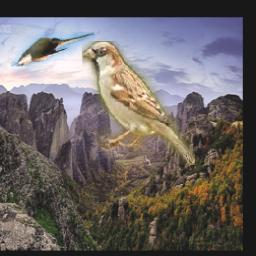Cuckoo: (11, 32, 94, 67)
Sparrow: (83, 41, 196, 165)
